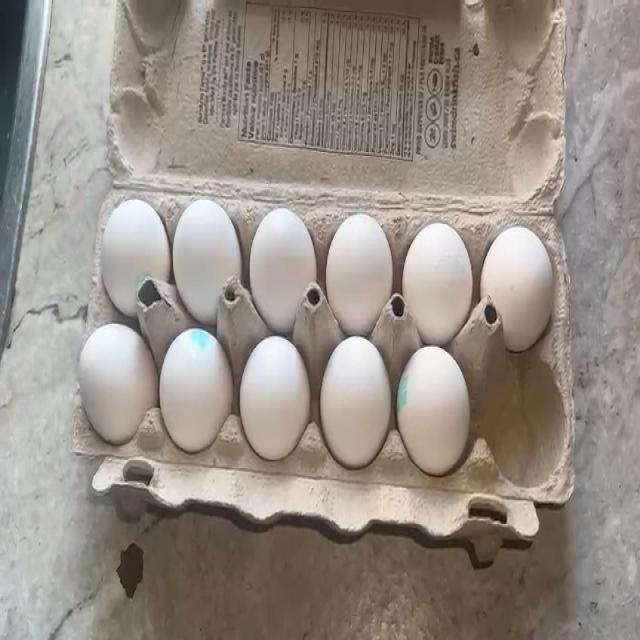Egg: (322, 348, 390, 466), (77, 324, 145, 440), (401, 354, 467, 458), (328, 217, 392, 321), (256, 214, 317, 316), (94, 206, 158, 300), (492, 229, 552, 322), (174, 210, 235, 298), (166, 336, 224, 428), (412, 227, 467, 322), (244, 352, 298, 443)
